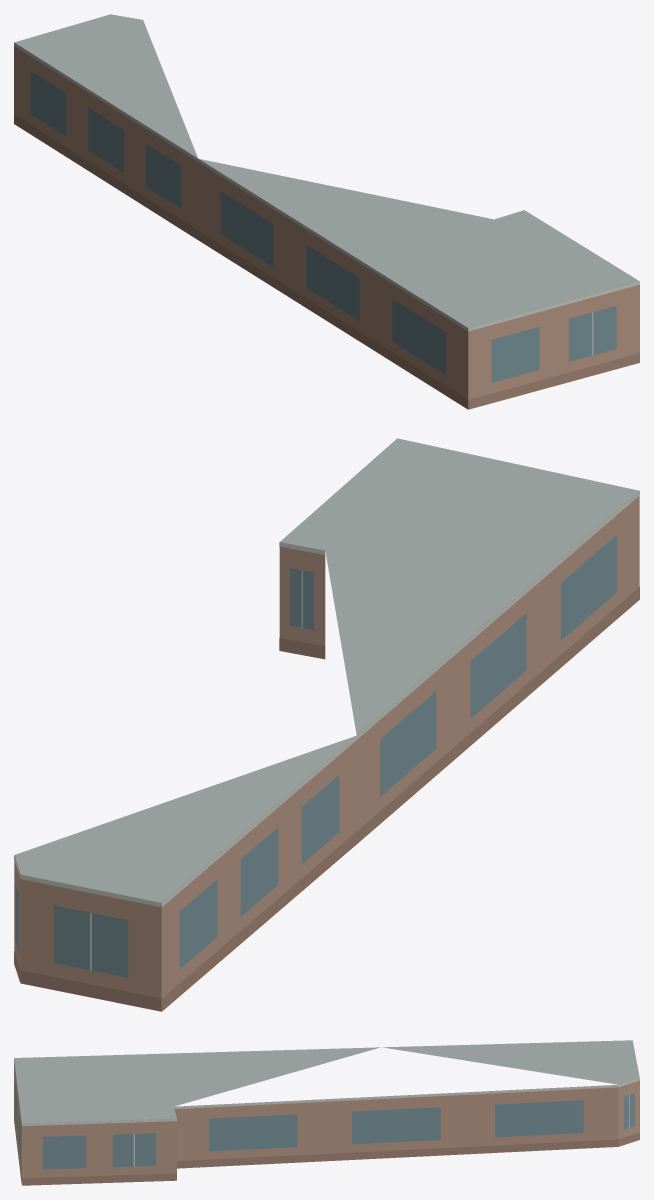
Rendered from survey-upis-32723925.glb.
3 views of the same model, one above another, from view 1: azimuth 30°, elevation 25°; view 2: azimuth 150°, elevation 25°; view 3: azimuth 270°, elevation 25° (orthographic). The views are drawn at different scales.
Parts seen in each view (by area): view 1: survey-upis-32723925.tmp; view 2: survey-upis-32723925.tmp; view 3: survey-upis-32723925.tmp.
Part boxes in pixels (x1=…): survey-upis-32723925.tmp: x1=14, y1=14, x2=639, y2=409; survey-upis-32723925.tmp: x1=14, y1=438, x2=639, y2=1011; survey-upis-32723925.tmp: x1=14, y1=1040, x2=639, y2=1185.
Size of the model in its own units: 8.8 by 3.05 by 27.89.
